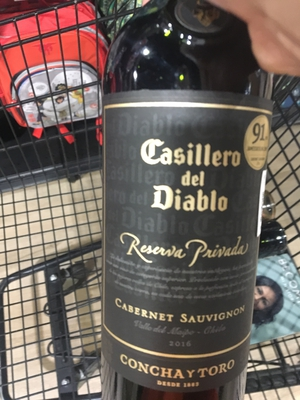casillero del diablo reserva privada cabernet sauvignon: (93, 10, 281, 400)
